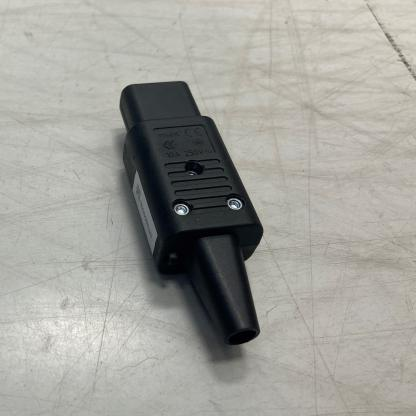SP0000006: (76, 46, 328, 365)
